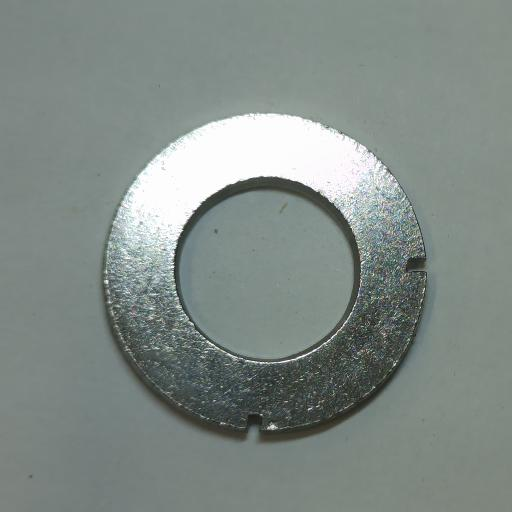burr: (406, 256, 428, 275), (244, 413, 264, 433)
